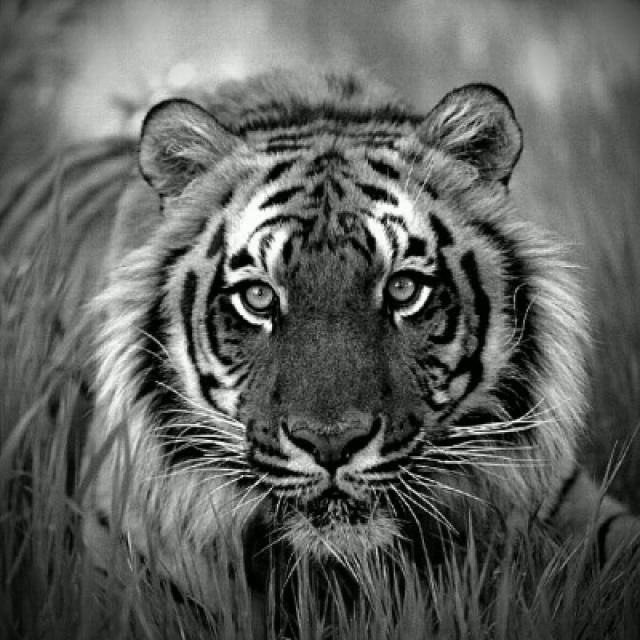Tiger: (117, 98, 516, 548)
